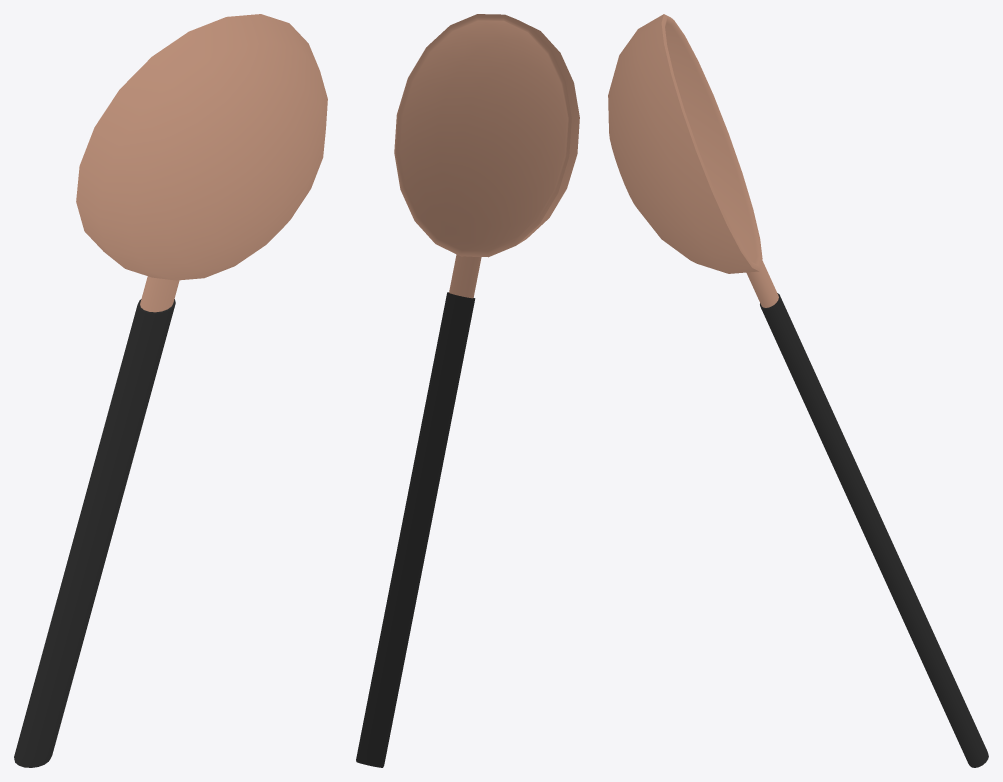
File: Ladle_e27e5849.obj
3 renders of one model, left to right at view 1: azimuth 30°, elevation 25°; view 2: azimuth 150°, elevation 25°; view 3: azimuth 270°, elevation 25°, orthographic. The views are drawn at different scales.
Parts seen in each view (by area): view 1: Ladle_e27e5849; view 2: Ladle_e27e5849; view 3: Ladle_e27e5849.
Part boxes in pixels (bbox=[...]): Ladle_e27e5849: bbox=[14, 14, 327, 767]; Ladle_e27e5849: bbox=[356, 14, 579, 767]; Ladle_e27e5849: bbox=[608, 14, 988, 767].
Size of the model in its own units: 0.0794 by 0.2862 by 0.1329.
